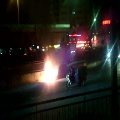fire: (38, 60, 58, 84)
